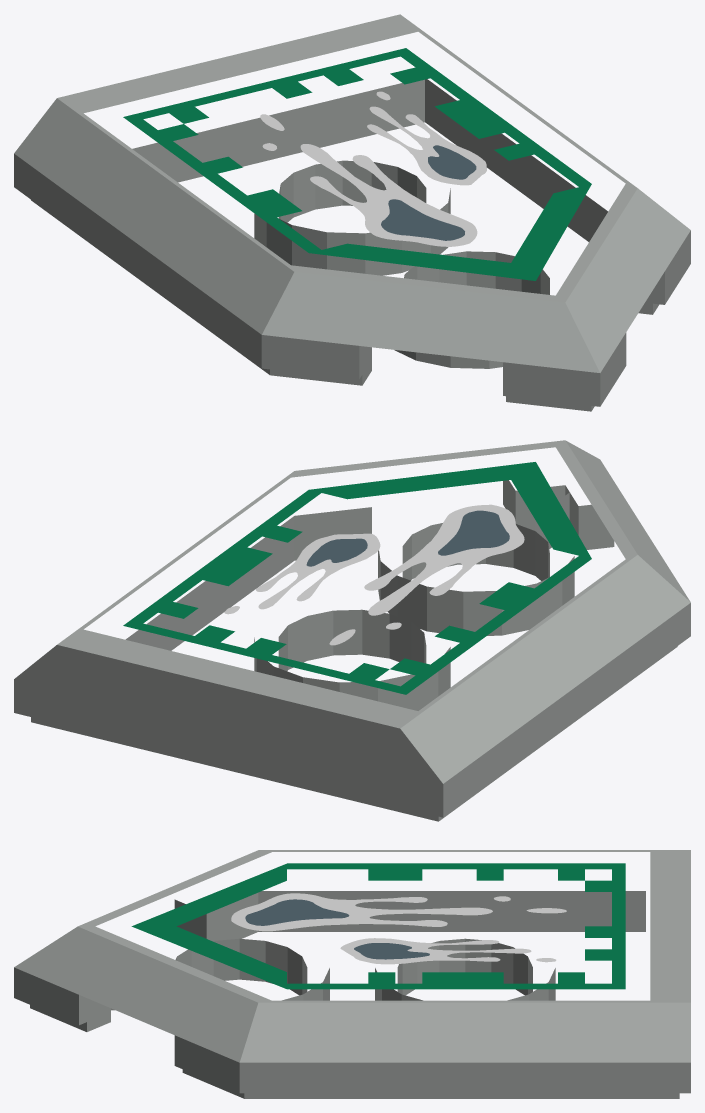
3 views of the same model, one above another, from view 1: azimuth 30°, elevation 25°; view 2: azimuth 150°, elevation 25°; view 3: azimuth 270°, elevation 25° (orthographic). The views are drawn at different scales.
Parts seen in each view (by area): view 1: world; view 2: world; view 3: world.
Part boxes in pixels (x1=…): world: x1=14, y1=14, x2=690, y2=411; world: x1=14, y1=440, x2=690, y2=821; world: x1=14, y1=850, x2=690, y2=1098.
Bounding box in the file's own units: 0.016 × 0.0032 × 0.024.
